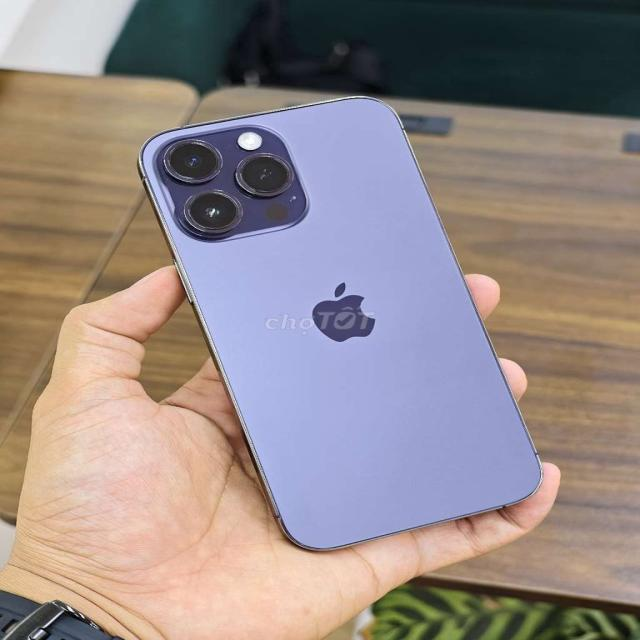gen_14: (136, 91, 561, 555)
